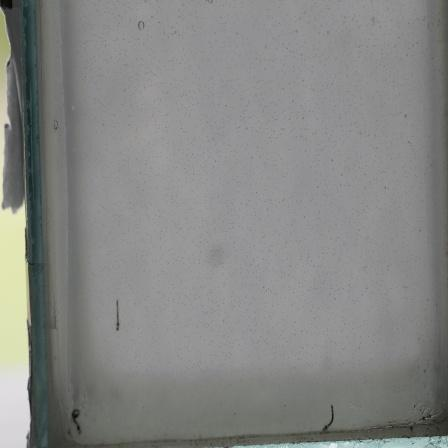Jentik-Nyamuk: (317, 401, 339, 433), (68, 404, 86, 437), (112, 296, 122, 334)
